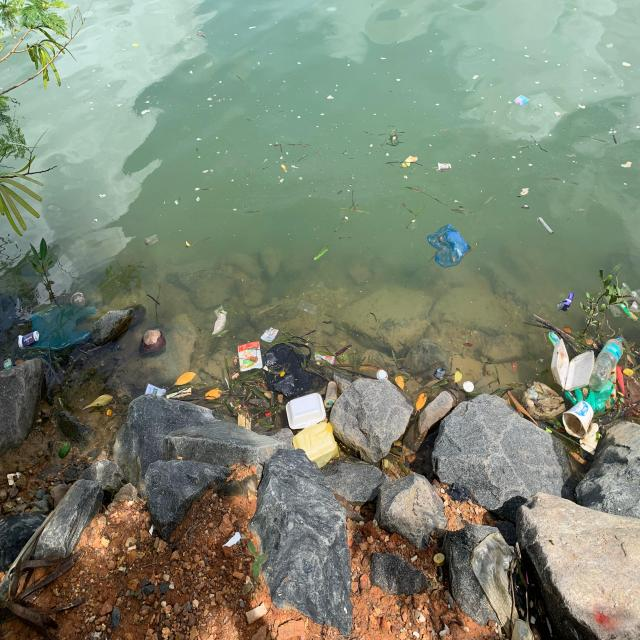Bungkus Makanan: (551, 339, 596, 392), (286, 393, 328, 431), (563, 401, 595, 440), (239, 342, 264, 373), (212, 307, 229, 339), (297, 299, 319, 318), (558, 292, 576, 313), (314, 352, 337, 366), (262, 327, 279, 345), (403, 156, 419, 169)
Bungkus Minuman: (325, 380, 340, 410), (18, 331, 41, 349), (71, 292, 87, 309), (437, 160, 454, 174)
Kantong Plastik: (263, 339, 326, 396), (30, 305, 97, 352), (427, 224, 473, 270), (590, 337, 625, 392)
